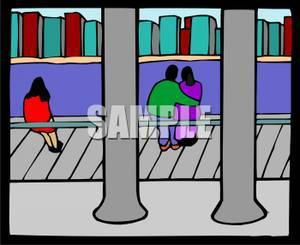person: (145, 62, 199, 153), (20, 75, 65, 151), (175, 66, 202, 147)
